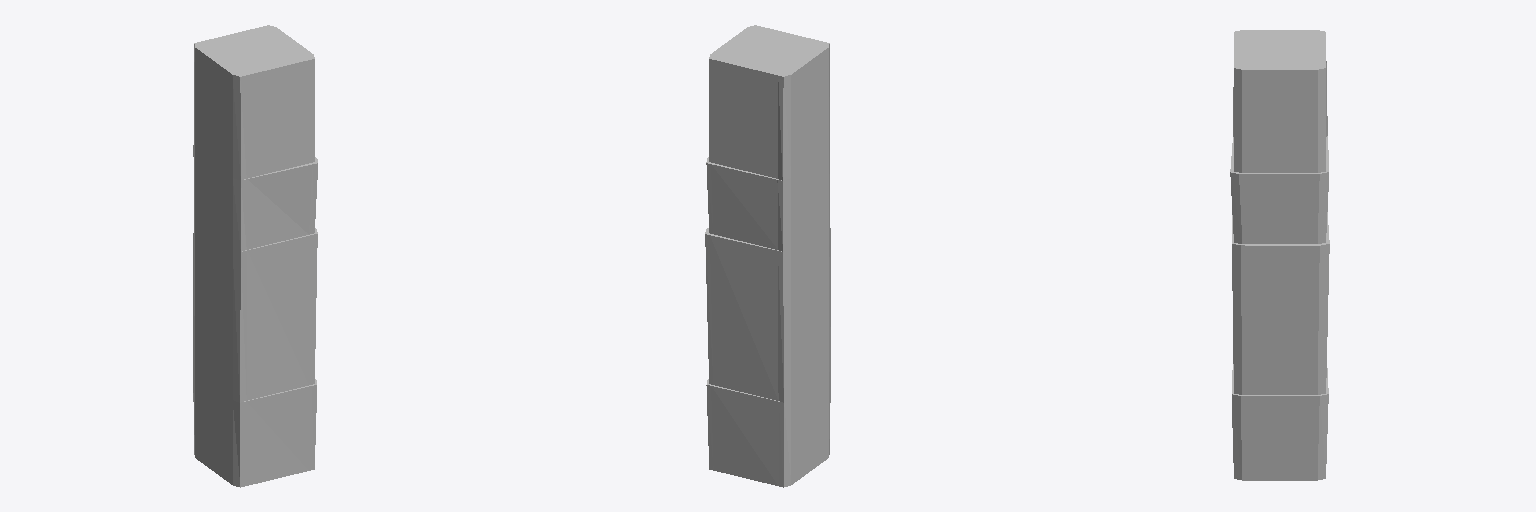
Rendered from StraightPillar.obj.
3 renders of one model, left to right at view 1: azimuth 30°, elevation 25°; view 2: azimuth 150°, elevation 25°; view 3: azimuth 270°, elevation 25°, orthographic.
Parts seen in each view (by area): view 1: Cube.003_Cube; view 2: Cube.003_Cube; view 3: Cube.003_Cube.
Boxes of the visible parts, x1,y1,x2,y2 form: Cube.003_Cube: [193, 25, 317, 487]; Cube.003_Cube: [705, 25, 830, 487]; Cube.003_Cube: [1230, 30, 1329, 480].
Size of the model in its own units: 1.55 by 7.22 by 1.58.